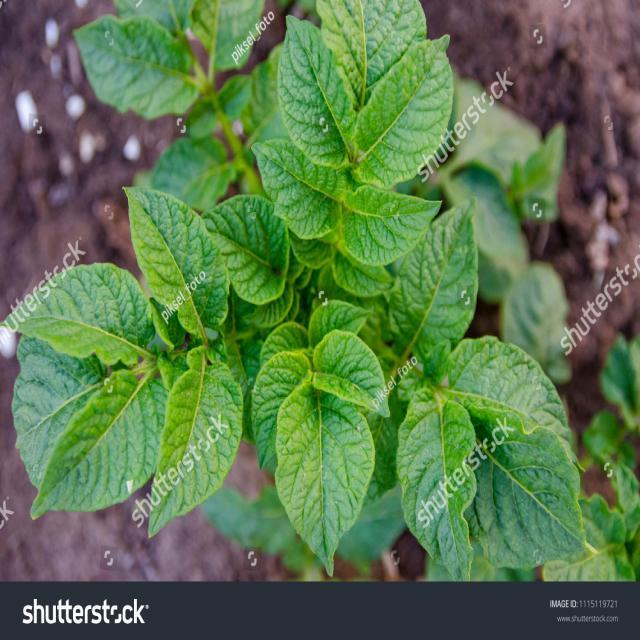Healthy Leaf: (21, 371, 160, 534), (278, 374, 364, 584), (119, 180, 229, 340), (353, 22, 458, 180), (154, 359, 234, 552), (386, 190, 481, 352), (403, 384, 476, 582), (270, 3, 353, 170), (11, 270, 144, 354), (202, 190, 288, 298), (336, 184, 446, 268), (246, 140, 341, 228)
